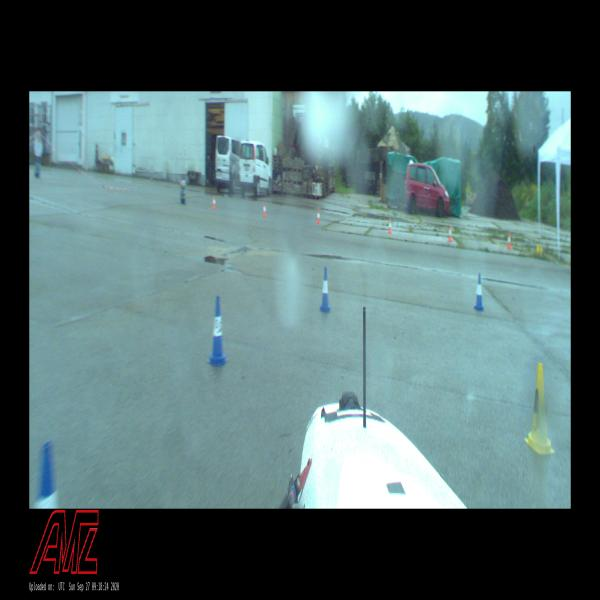blue_cone: (207, 294, 228, 368), (320, 266, 330, 312), (475, 274, 483, 310)
orange_cone: (448, 225, 452, 241), (316, 210, 320, 225), (212, 196, 216, 209), (389, 218, 392, 235), (507, 233, 510, 249), (263, 203, 266, 217)
yellow_cone: (524, 362, 554, 456)
